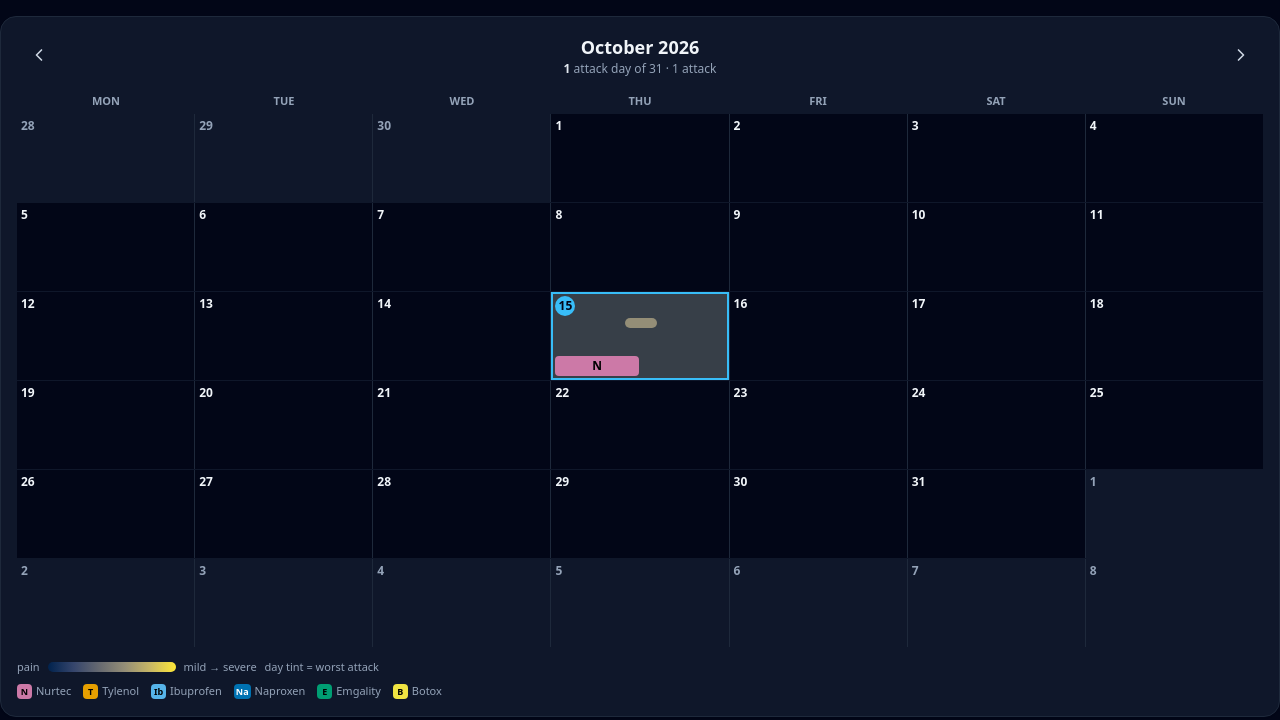
Test case: CalendarPage in the read-only viewer › keeps month/day navigation but omits schedule controls, dialogs, and attack edit buttons
The image size is (1280, 720).
Expected: the heading "October 2026" is shown, [581, 35, 699, 59]
Click the button named "Previous month" at (39, 55), box [17, 33, 61, 77]
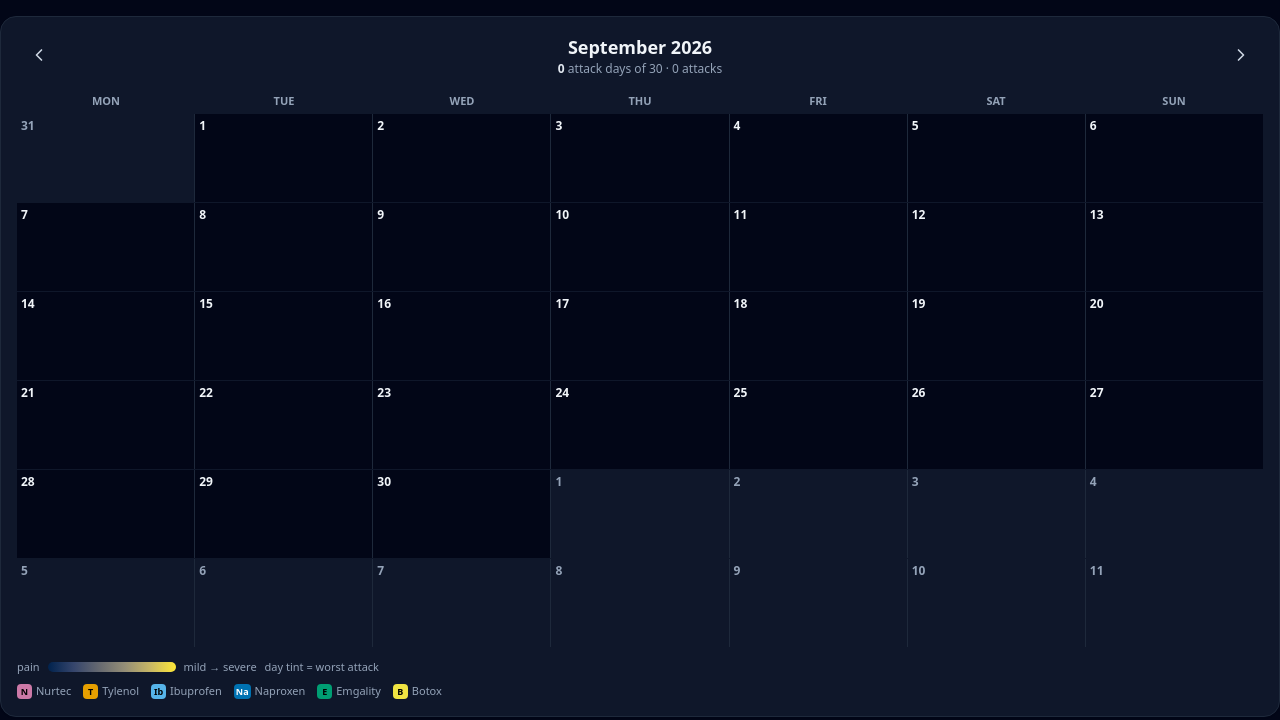
Click the button named "Next month" at (1241, 55), box [1219, 33, 1263, 77]
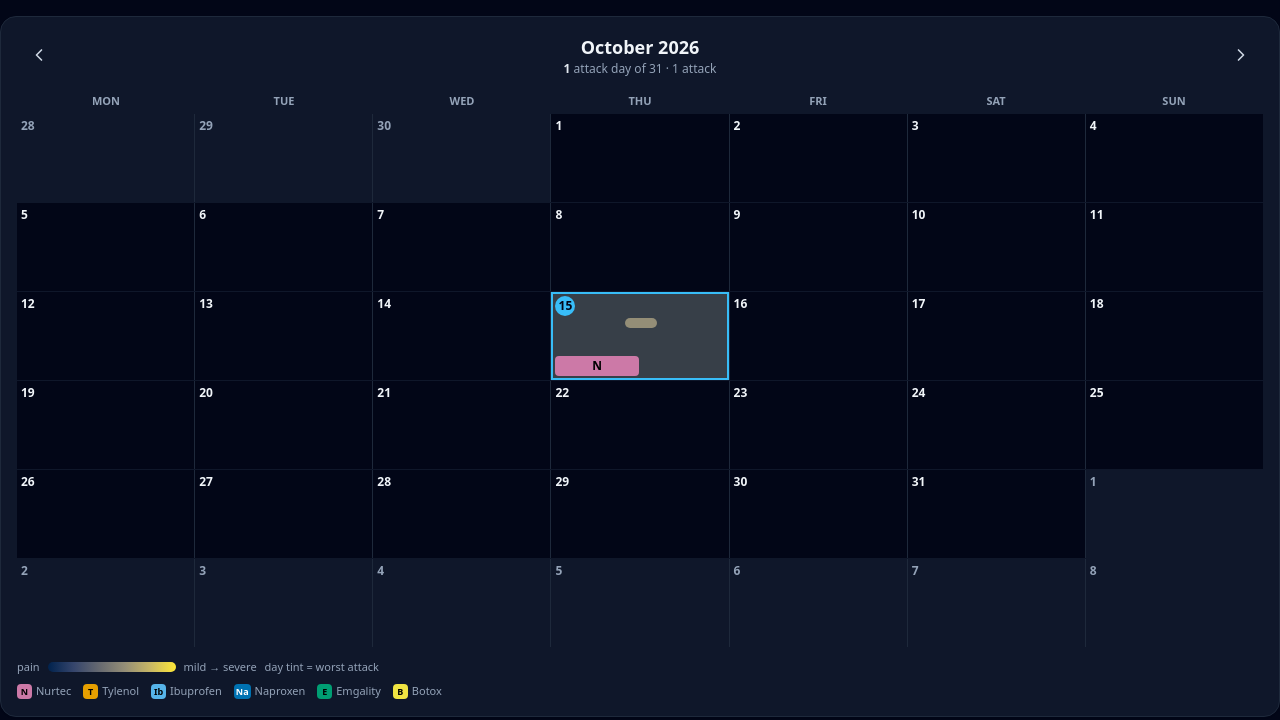
Expected: the heading "October 2026" is shown, [581, 35, 699, 59]
Click the button "15 N" at (640, 336), box [551, 292, 728, 380]
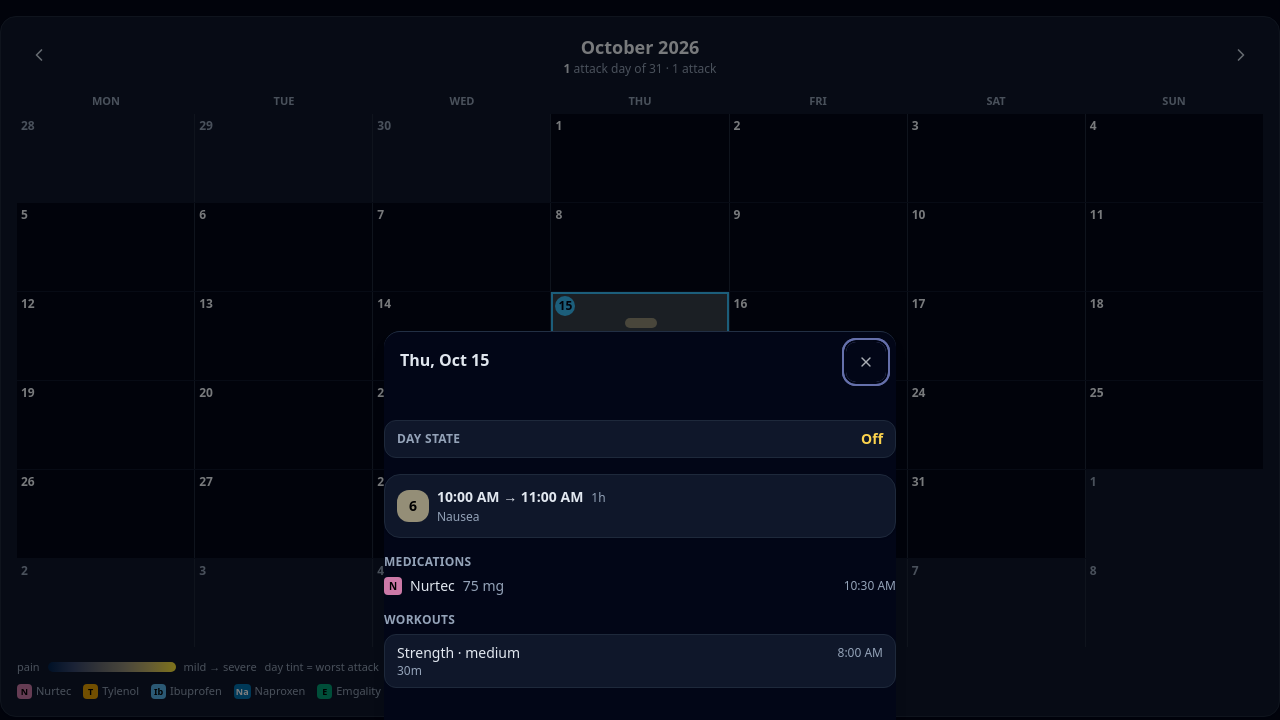
Expected: the text "Day state" is shown, [397, 431, 460, 447]
Expected: the text "Off" is shown, [861, 429, 883, 449]
Expected: the dialog is shown, [384, 331, 896, 719]
